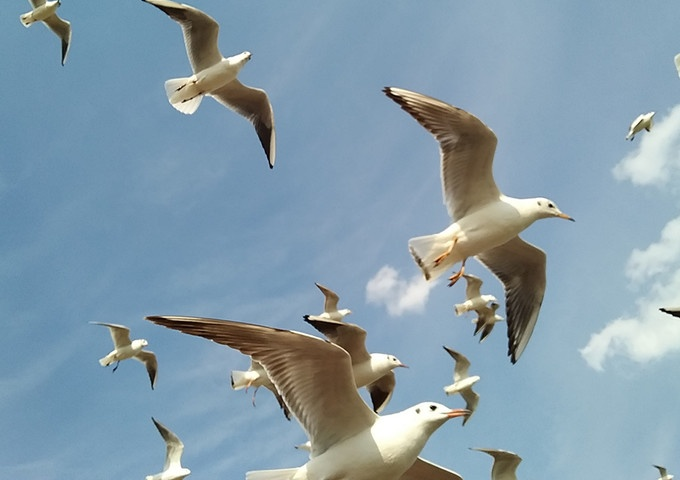bird: (144, 303, 475, 480), (374, 84, 578, 359), (119, 1, 279, 168), (291, 315, 403, 416), (90, 318, 172, 388), (433, 342, 491, 429), (11, 1, 75, 73), (135, 420, 195, 480), (450, 275, 495, 336), (306, 282, 354, 328), (619, 109, 661, 146)
